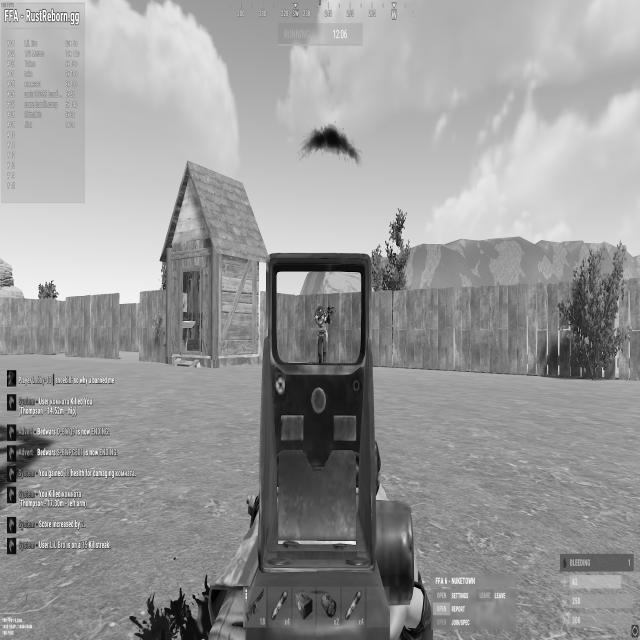Player: (313, 302, 335, 364), (317, 302, 323, 318)
